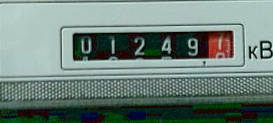0: (78, 34, 93, 54)
1: (105, 33, 118, 55)
2: (130, 34, 147, 56)
4: (159, 34, 173, 54)
7: (213, 30, 227, 50)
9: (185, 35, 199, 56)
screen: (56, 18, 248, 71)
